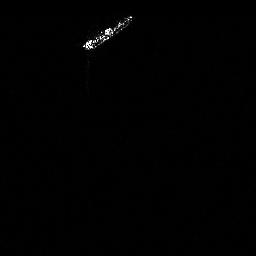ship: (83, 15, 133, 50)
